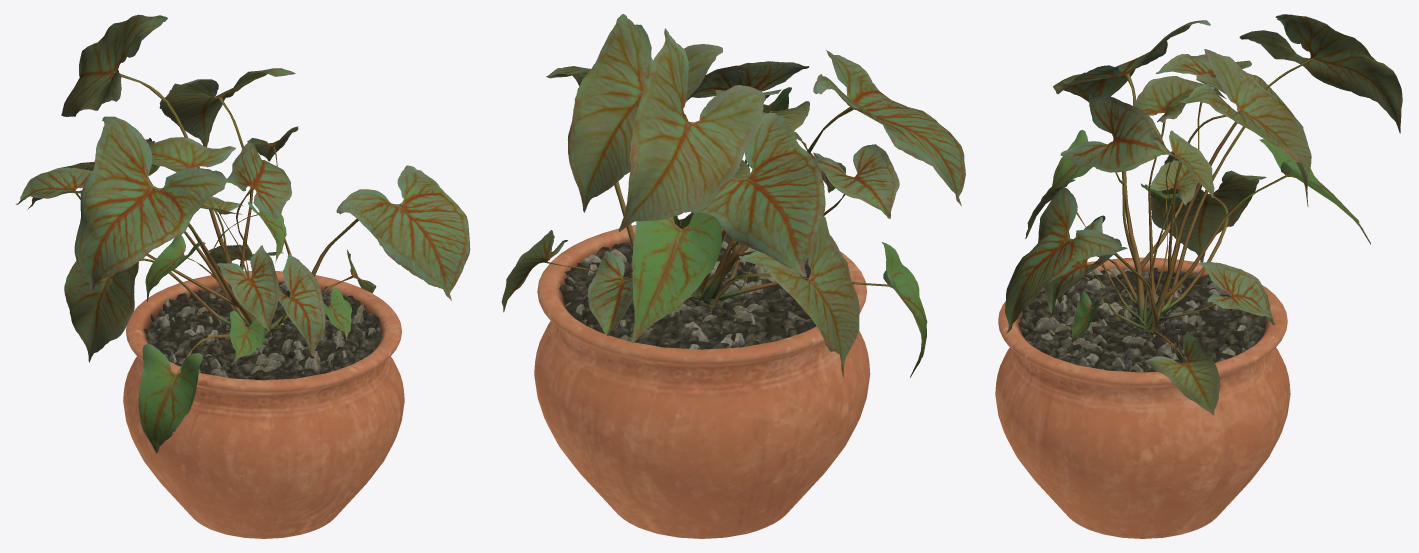
File: plant-pot.glb
3 views of the same model, side by side, from view 1: azimuth 30°, elevation 25°; view 2: azimuth 150°, elevation 25°; view 3: azimuth 270°, elevation 25° (orthographic). The views are drawn at different scales.
Parts seen in each view (by area): view 1: leaves, pot, dirt; view 2: leaves, pot, dirt; view 3: leaves, pot, dirt.
Boxes of the visible parts, left/top/right/bottom form: leaves: left=15, top=14, right=470, bottom=452; pot: left=123, top=271, right=404, bottom=538; dirt: left=143, top=282, right=383, bottom=380; leaves: left=501, top=14, right=965, bottom=377; pot: left=534, top=219, right=870, bottom=538; dirt: left=559, top=233, right=816, bottom=349; leaves: left=1005, top=14, right=1402, bottom=415; pot: left=995, top=257, right=1290, bottom=538; dirt: left=1018, top=267, right=1266, bottom=372.
Size of the model in its own units: 0.7012 by 0.8412 by 0.6574.
Materials: 2 (2 with a texture image).
